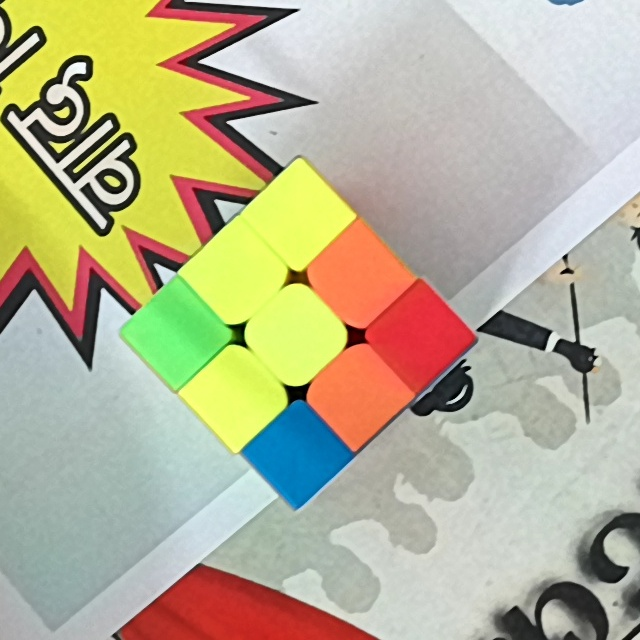tile: (393, 306, 449, 366), (208, 247, 266, 303), (268, 190, 325, 246), (264, 307, 323, 361), (267, 428, 323, 483), (150, 309, 204, 365), (328, 369, 386, 421), (327, 251, 382, 305), (209, 368, 262, 419)
